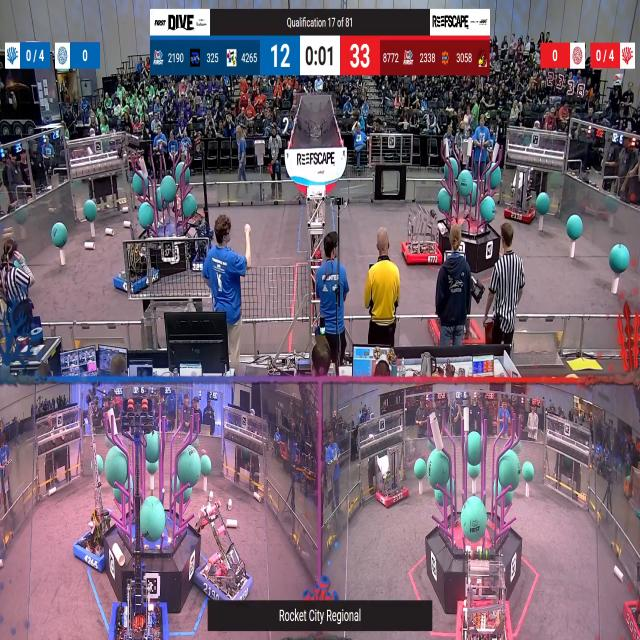scoreboard: (150, 34, 489, 76)
